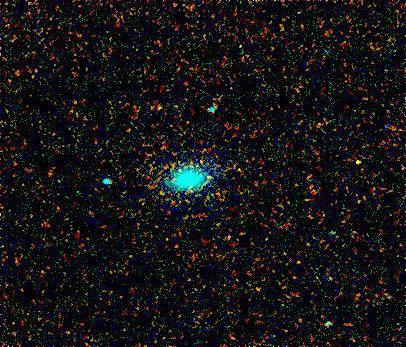star: (345, 145, 375, 175)
